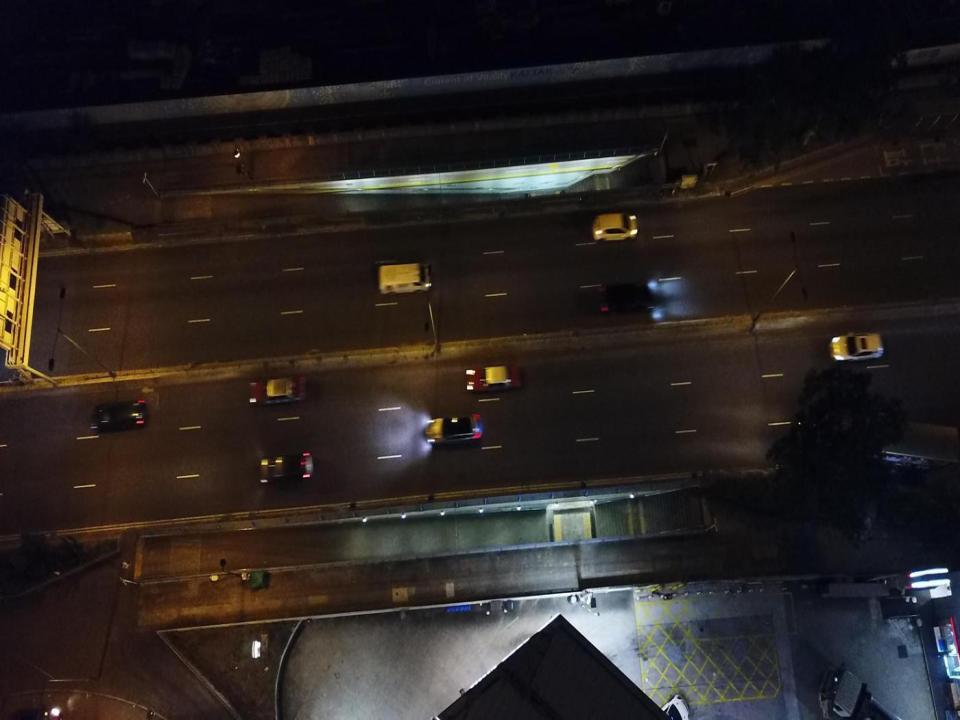bus: (834, 414, 960, 477)
car: (90, 398, 148, 432), (256, 452, 314, 484), (247, 375, 306, 406), (464, 363, 523, 394), (422, 413, 480, 444), (598, 282, 656, 313), (832, 332, 884, 362), (592, 211, 638, 243)
truck: (819, 664, 904, 719)
van: (377, 263, 434, 293)
